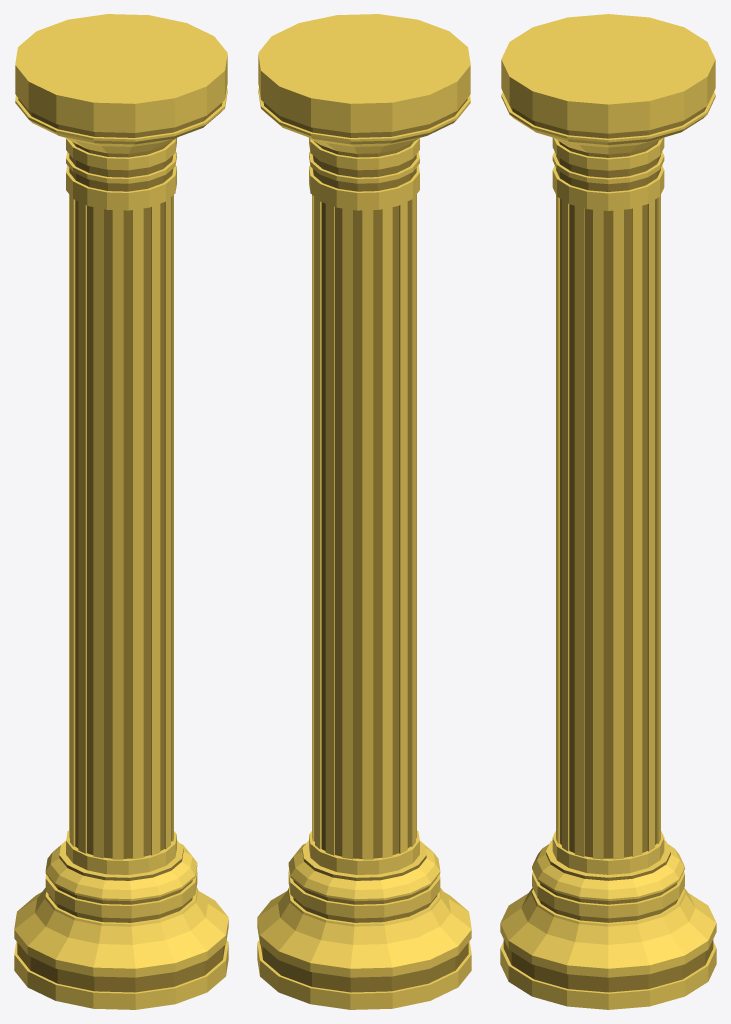
The model's file is caollumhigh.fbx.
The picture shows the model from 3 angles, left to right: view 1: azimuth 30°, elevation 25°; view 2: azimuth 150°, elevation 25°; view 3: azimuth 270°, elevation 25°; orthographic projection.
Visible parts, largest first — view 1: Cylinder; view 2: Cylinder; view 3: Cylinder.
Part boxes in pixels (x1,y1,x2,y2): Cylinder: (14, 14, 228, 1009); Cylinder: (257, 14, 471, 1009); Cylinder: (500, 14, 716, 1009).
Size of the model in its own units: 117 by 541 by 117.
